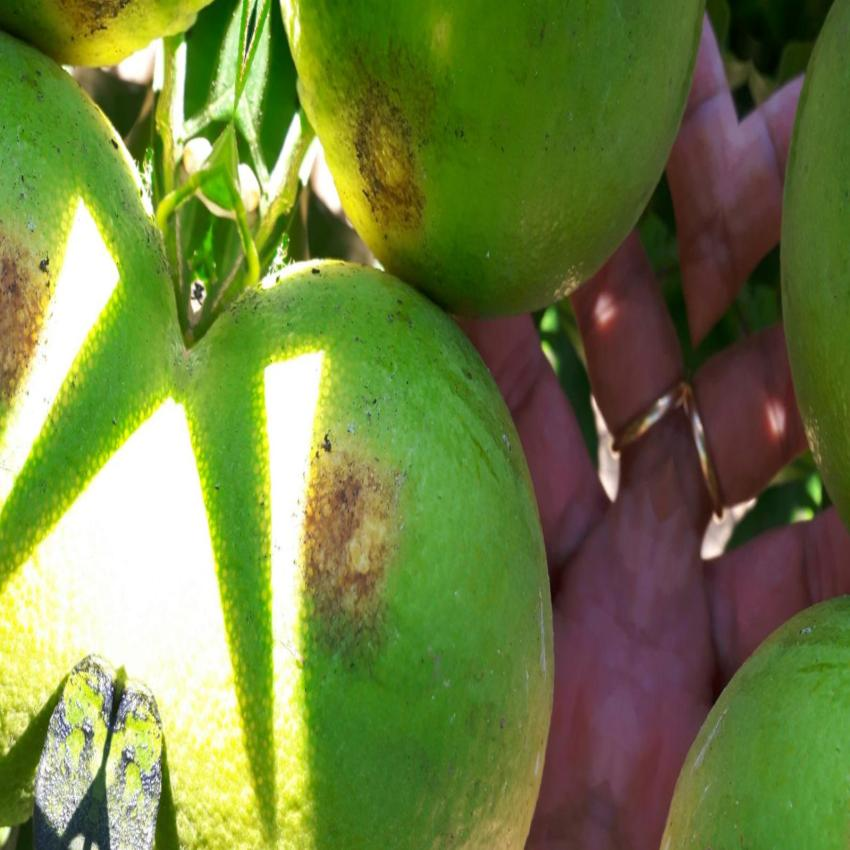Mal estado: (172, 251, 568, 834), (268, 0, 710, 321), (0, 24, 156, 849)
